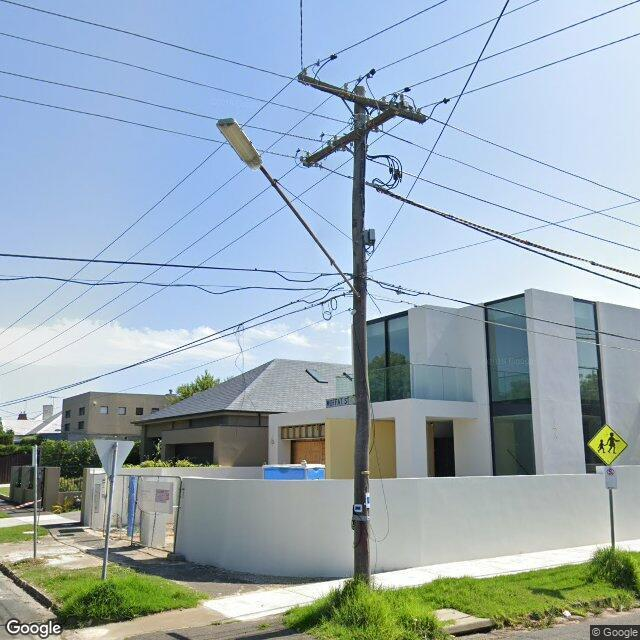crossarm: (296, 73, 427, 123), (304, 106, 399, 168)
streetlight: (216, 118, 360, 298)
timber-pole: (351, 87, 370, 586)
